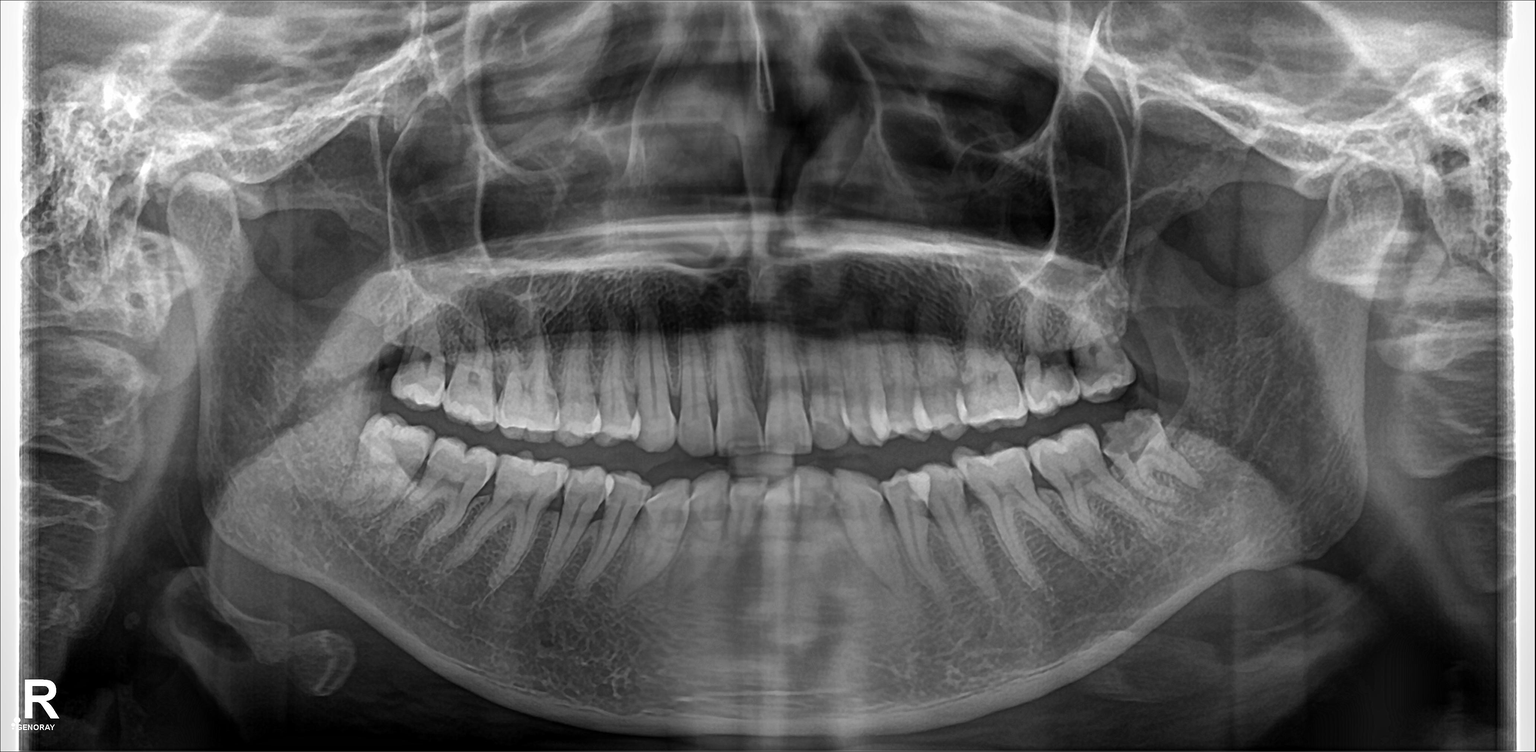Dental Caries: (1102, 426, 1158, 456)
Impacted Third Molar: (1101, 411, 1199, 489), (352, 419, 434, 496)
